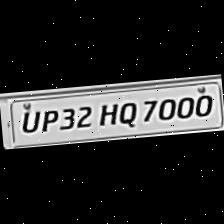0: (191, 91, 214, 117), (154, 95, 176, 122), (174, 93, 194, 120)
2: (72, 102, 94, 131)
3: (57, 104, 76, 130)
7: (136, 96, 158, 124)
H: (92, 100, 118, 128)
P: (36, 106, 58, 134)
Q: (114, 98, 138, 128)
U: (16, 106, 39, 136)
